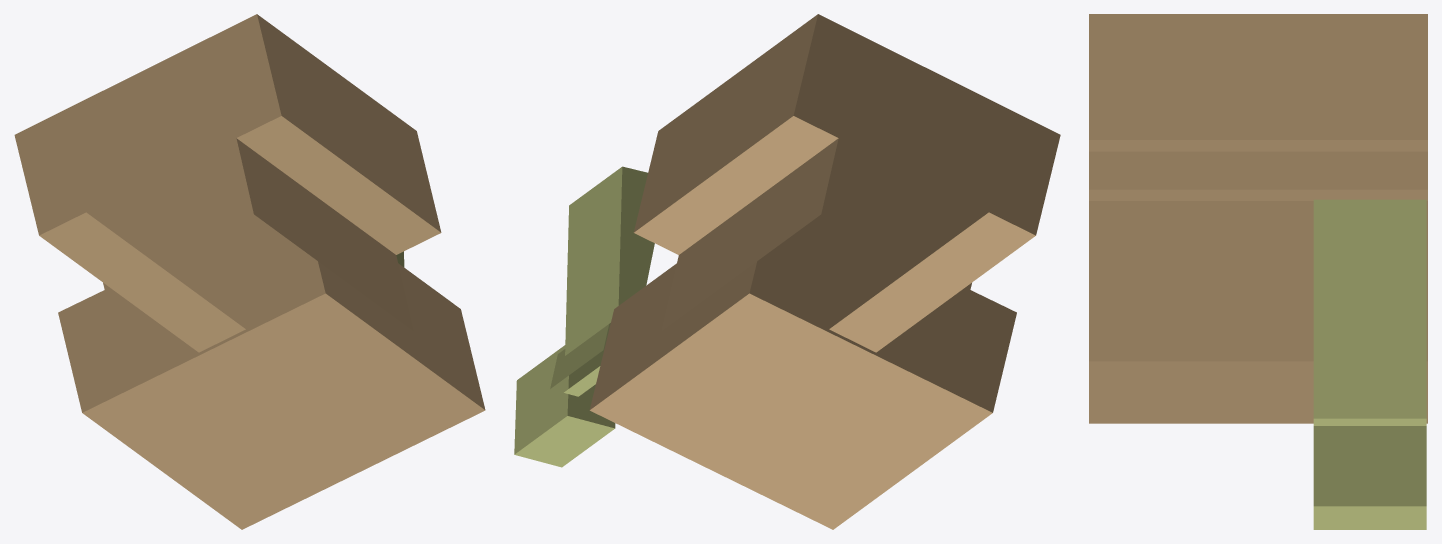
The picture shows the model from 3 angles, left to right: view 1: azimuth 30°, elevation 25°; view 2: azimuth 150°, elevation 25°; view 3: azimuth 270°, elevation 25°; orthographic projection. The views are drawn at different scales.
Parts seen in each view (by area): view 1: 0_0_1_1_3_3_2_2_2; view 2: 0_0_1_1_3_3_2_2_2; view 3: 0_0_1_1_3_3_2_2_2.
Boxes of the visible parts, left/top/right/bottom form: 0_0_1_1_3_3_2_2_2: left=14, top=14, right=485, bottom=529; 0_0_1_1_3_3_2_2_2: left=514, top=14, right=1060, bottom=529; 0_0_1_1_3_3_2_2_2: left=1089, top=14, right=1427, bottom=529.
Bounding box in the file's own units: 37.75 × 33.6 × 27.
